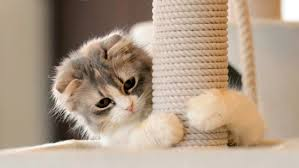Gato: (45, 29, 157, 138)
